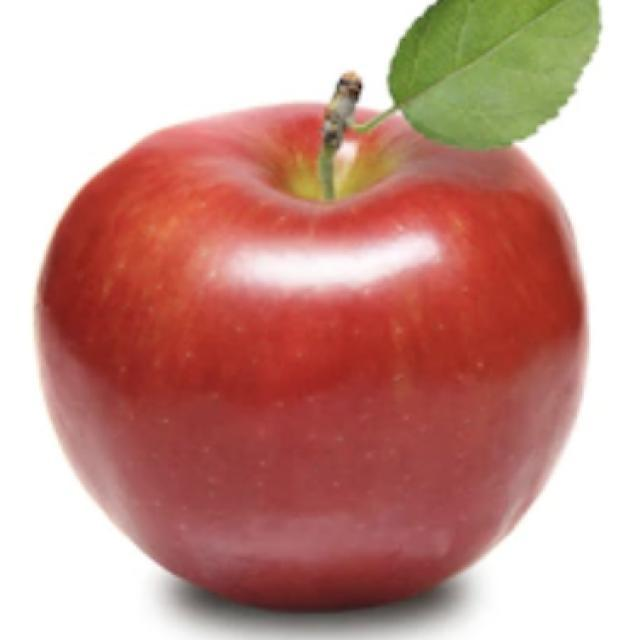Fresh Apple: (23, 106, 594, 640)
